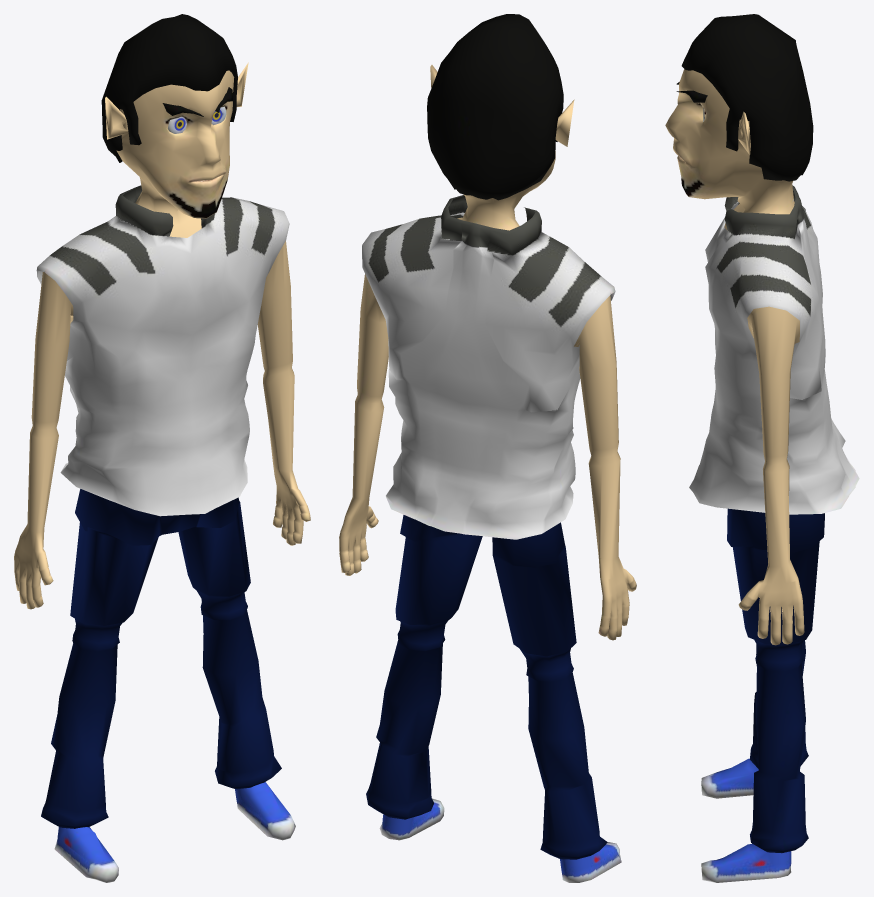
The model's file is 4player_ichuen_collape_bake_texture_1Material.obj.
3 renders of one model, left to right at view 1: azimuth 30°, elevation 25°; view 2: azimuth 150°, elevation 25°; view 3: azimuth 270°, elevation 25°, orthographic.
Parts seen in each view (by area): view 1: IchuenCollape_Plane.001; view 2: IchuenCollape_Plane.001; view 3: IchuenCollape_Plane.001.
Boxes of the visible parts, x1,y1,x2,y2 form: IchuenCollape_Plane.001: [14, 14, 310, 882]; IchuenCollape_Plane.001: [339, 14, 636, 882]; IchuenCollape_Plane.001: [665, 14, 859, 882].
Bounding box in the file's own units: 0.6092 × 1.77 × 0.3806.
